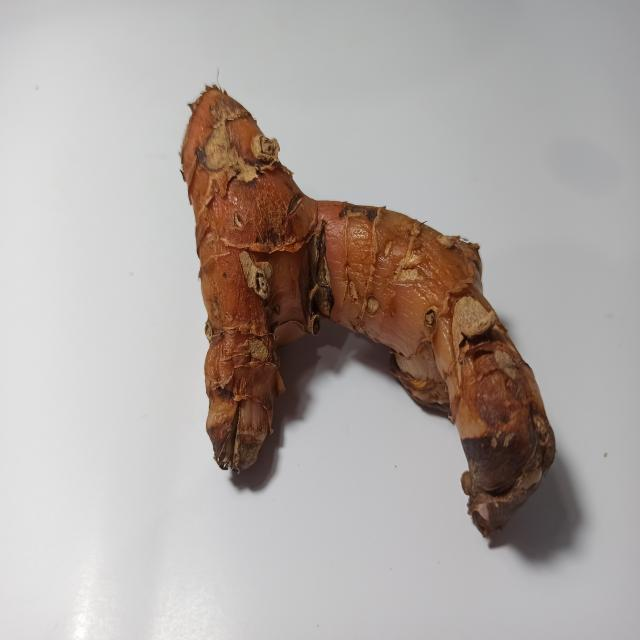ginger: (182, 89, 558, 522)
